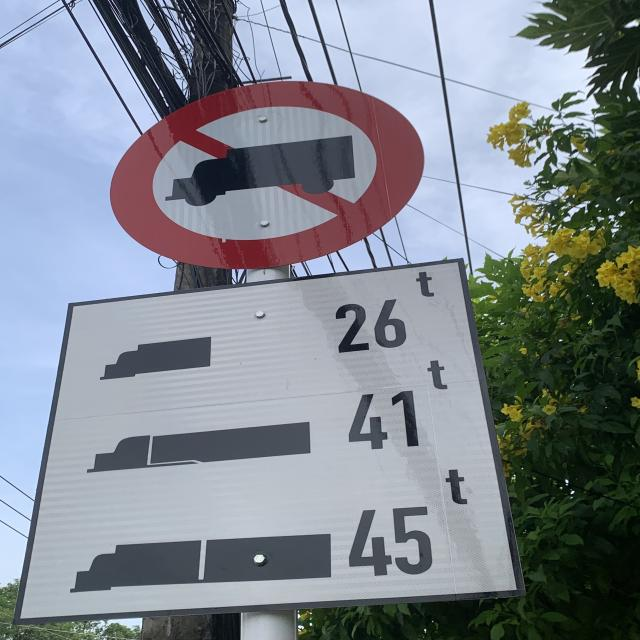Cam_Xe_Tai: (112, 82, 423, 270)
